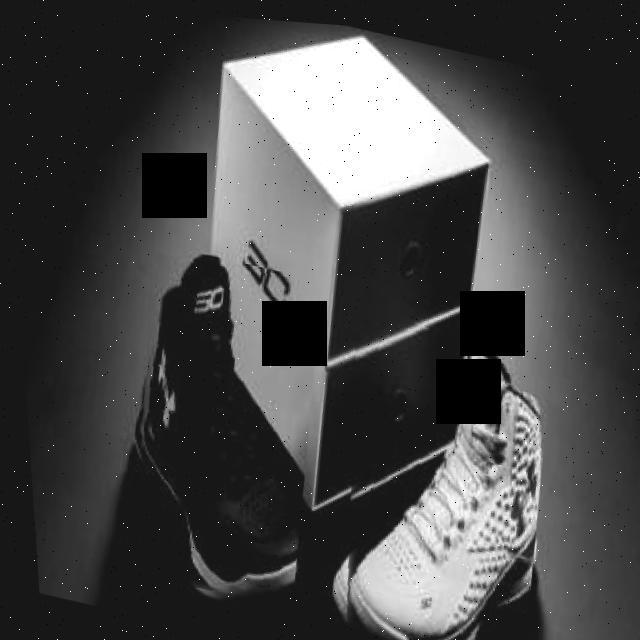shoe: (95, 237, 337, 613), (299, 301, 565, 640)
